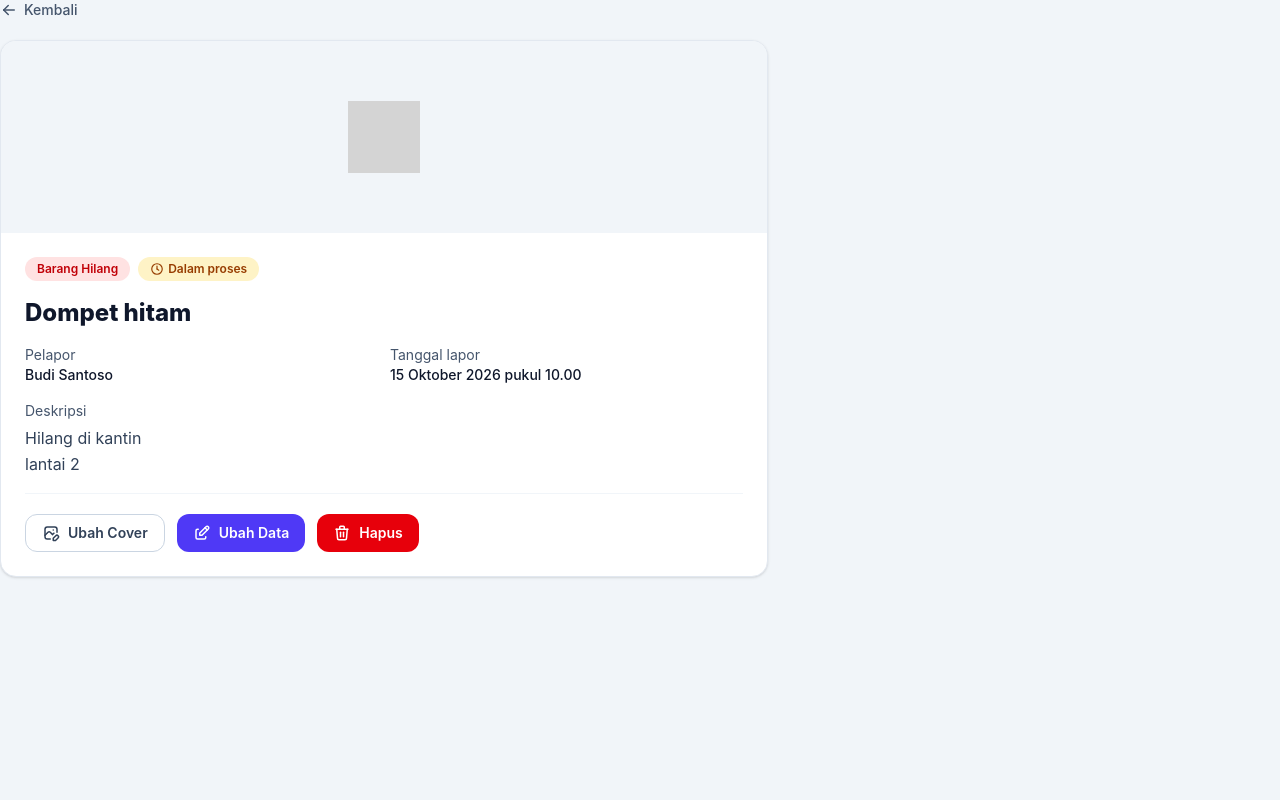
Scenario: DetailPage › modal › membuka dan menutup modal ubah data
The width and height of the screenshot is (1280, 800).
Click the button "Ubah Data": click(241, 533) [177,514,305,552]
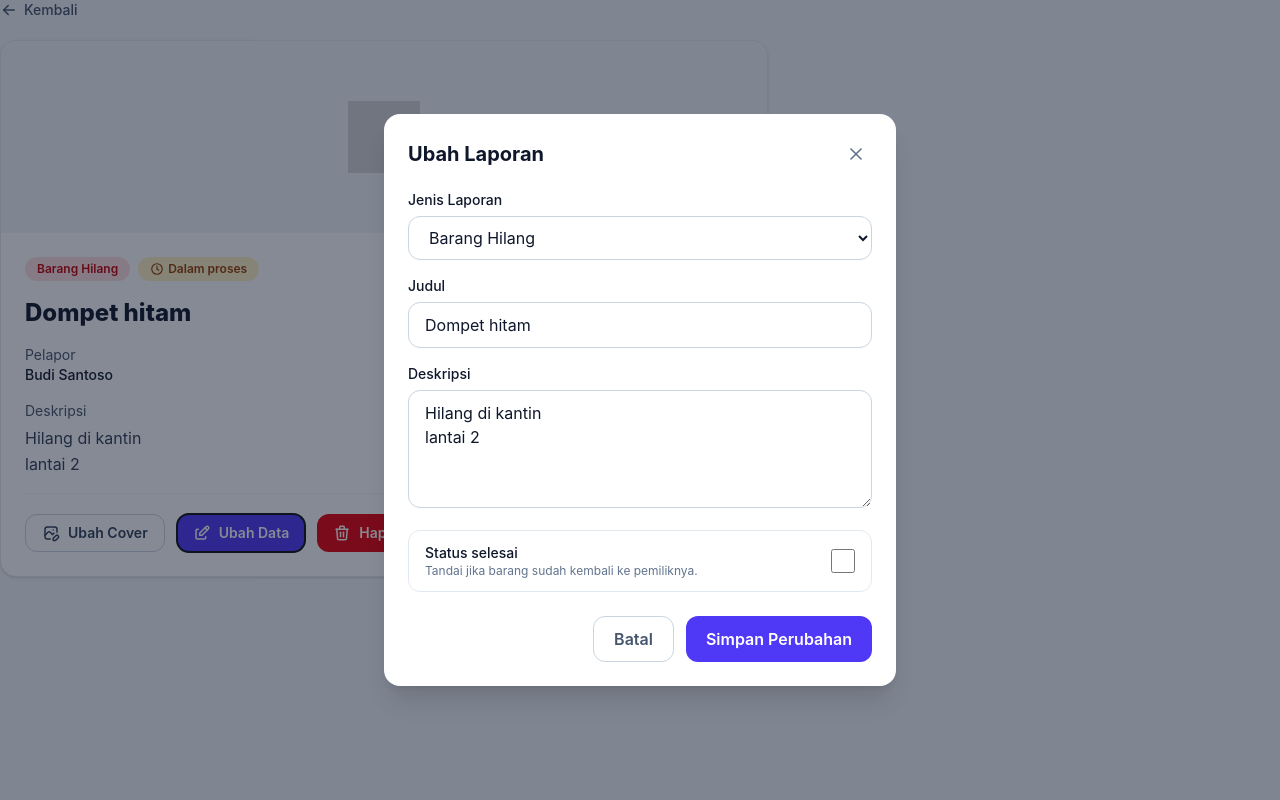
Expected: the dialog "Ubah Laporan" is shown, [384,114,896,686]
Click the button "Batal": click(634, 639) [593,616,674,662]
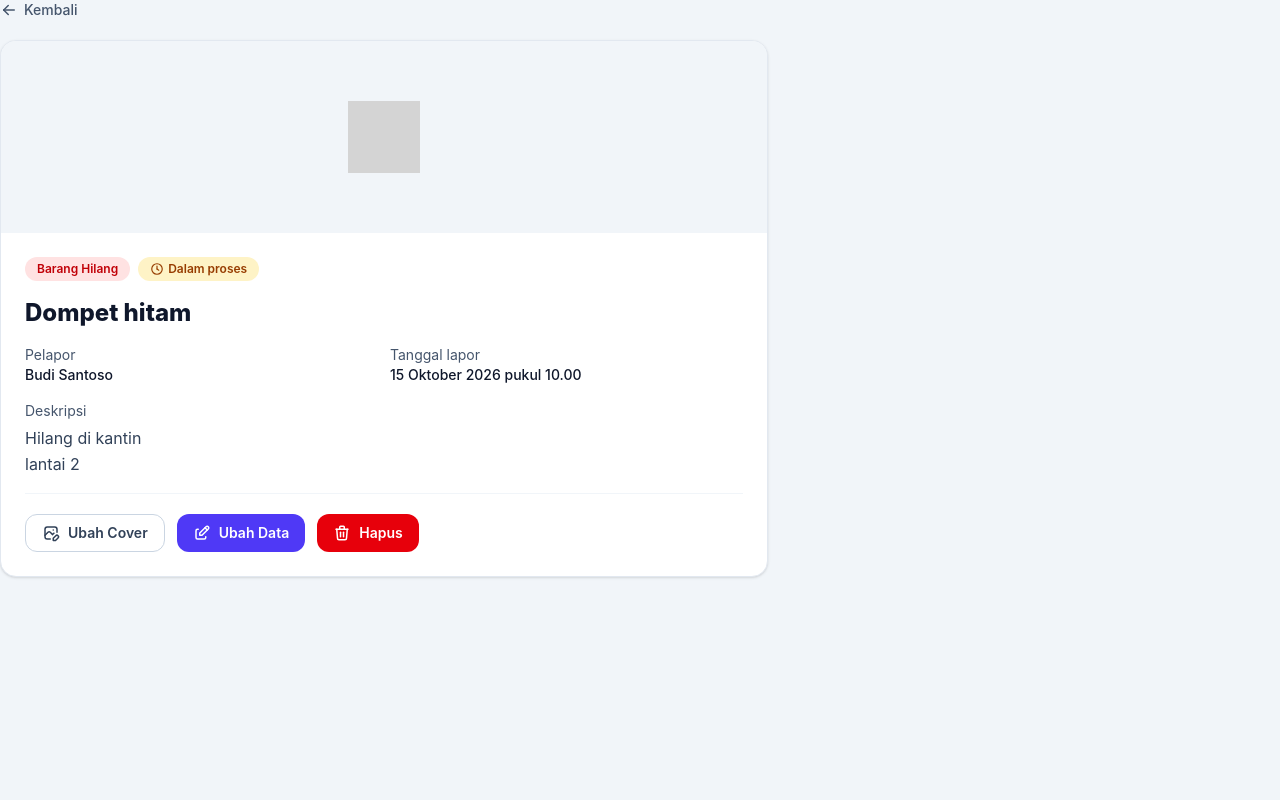
Expected: the dialog is gone
